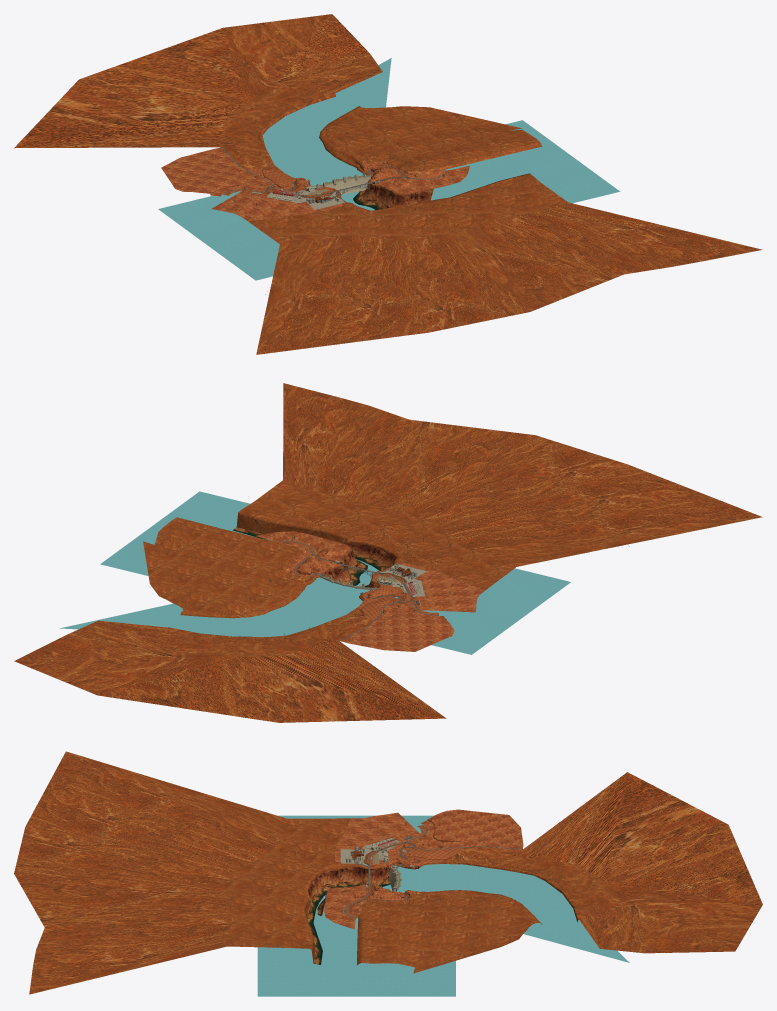
The model's file is desert.lod2.glb.
3 views of the same model, one above another, from view 1: azimuth 30°, elevation 25°; view 2: azimuth 150°, elevation 25°; view 3: azimuth 270°, elevation 25° (orthographic).
Parts seen in each view (by area): view 1: ENV, water2, ENV.002, water1, ENV.001, Track_2, Road_road; view 2: ENV, ENV.002, water2, water1, ENV.001, Road_road; view 3: ENV, water2, ENV.002, water1, ENV.001, Road_road, ENV.003, Track_2.
Part boxes in pixels (x1,y1,x2,y2): ENV: [14, 14, 762, 354]; water2: [158, 120, 619, 280]; ENV.002: [161, 147, 469, 221]; water1: [262, 58, 391, 186]; ENV.001: [305, 177, 433, 209]; Track_2: [251, 172, 372, 195]; Road_road: [221, 147, 446, 197]; ENV: [14, 383, 762, 722]; ENV.002: [256, 531, 484, 651]; water2: [100, 491, 570, 654]; water1: [59, 577, 373, 636]; ENV.001: [233, 527, 394, 596]; Road_road: [279, 540, 438, 640]; ENV: [14, 751, 762, 994]; water2: [257, 815, 455, 996]; ENV.002: [324, 809, 523, 929]; water1: [395, 864, 629, 962]; ENV.001: [307, 863, 419, 964]; Road_road: [345, 825, 522, 918]; ENV.003: [340, 838, 399, 865]; Track_2: [370, 835, 414, 891].
Bounding box in the file's own units: 4603 × 208 × 6013.
17 materials, 17 textured.
